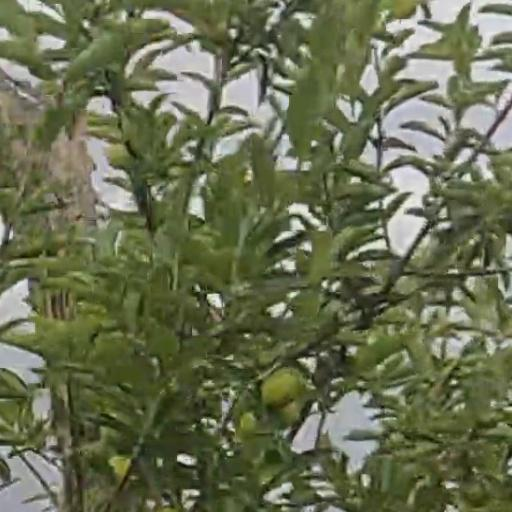acerola_verde: (263, 371, 295, 410)
